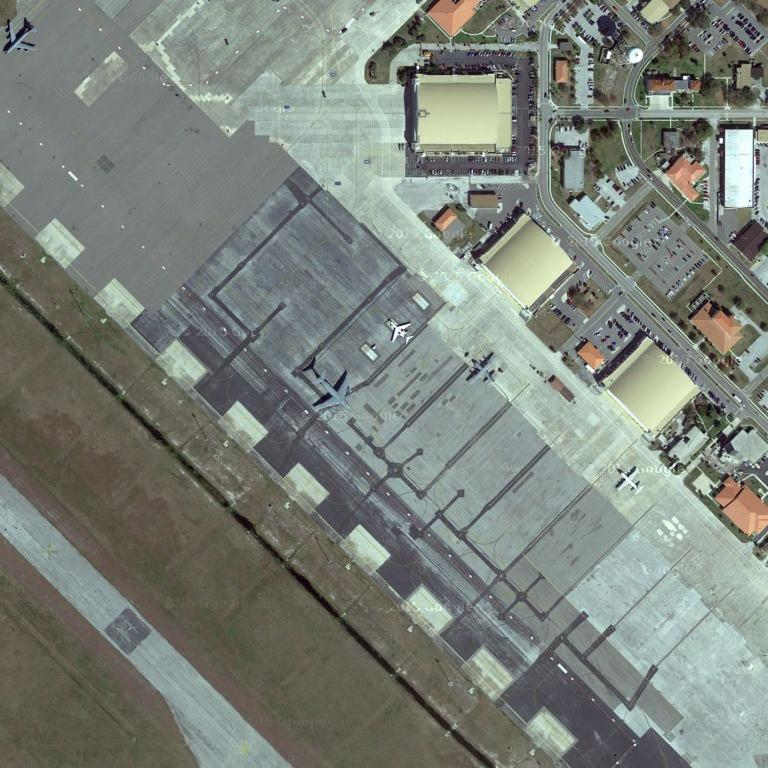C-130: (466, 352, 503, 386)
C-17: (306, 365, 356, 418)
KC-135: (3, 16, 43, 58)
P-3C: (610, 460, 646, 500)
